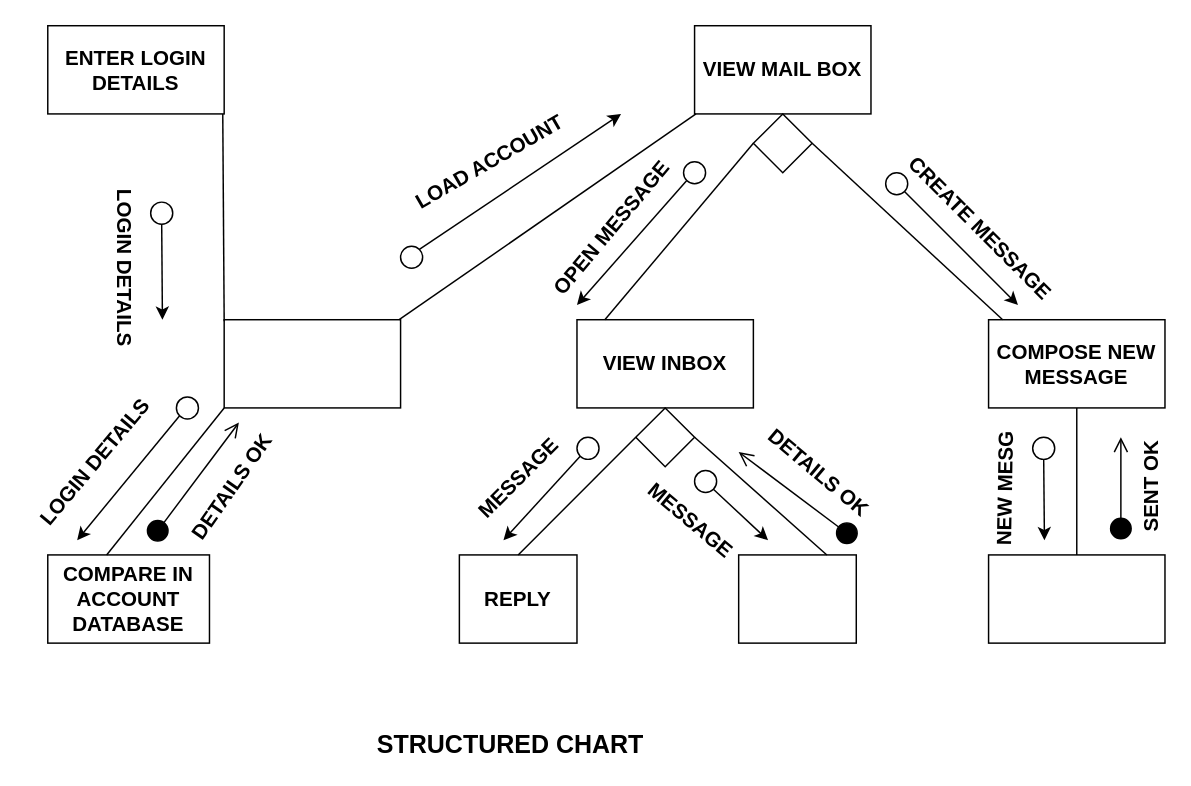
The diagram is 1191 pixels wide and 786 high, and some of its shapes have lost their labels. The centre of each missing label's shape, as x and y in pixels:
DELETE: pixel 796 598
SEND MESSAGE: pixel 1076 598
VERIFY LOGIN DETAILS: pixel 312 363
